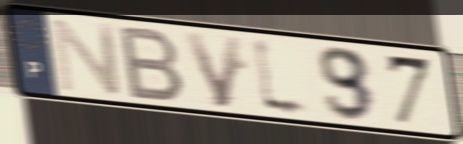7: (380, 51, 438, 127)
9: (314, 44, 380, 124)
B: (118, 23, 188, 104)
L: (249, 33, 317, 122)
N: (48, 16, 126, 97)
V: (180, 29, 246, 111)
